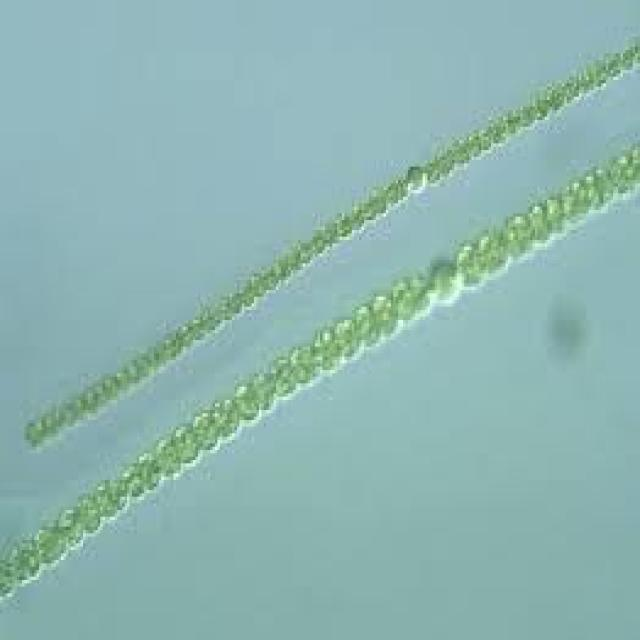Blue Green Algae: (474, 230, 515, 277), (501, 210, 537, 257), (152, 437, 184, 480), (560, 180, 594, 220), (586, 163, 616, 207), (212, 397, 240, 443), (332, 317, 359, 363), (454, 243, 482, 287), (268, 353, 296, 397), (371, 293, 398, 337), (391, 277, 418, 320), (288, 340, 315, 383), (249, 367, 276, 410), (193, 410, 220, 453), (56, 507, 83, 550), (354, 296, 376, 346), (410, 273, 435, 317), (171, 424, 198, 464), (234, 380, 259, 420), (545, 196, 569, 236), (530, 200, 552, 243), (139, 447, 161, 490), (403, 160, 425, 193), (547, 77, 567, 110), (516, 100, 538, 130), (462, 130, 484, 160), (488, 113, 506, 147), (435, 147, 457, 173), (386, 177, 408, 203), (606, 50, 623, 83), (296, 243, 315, 267), (249, 270, 264, 300), (335, 210, 354, 233), (349, 203, 364, 230)
